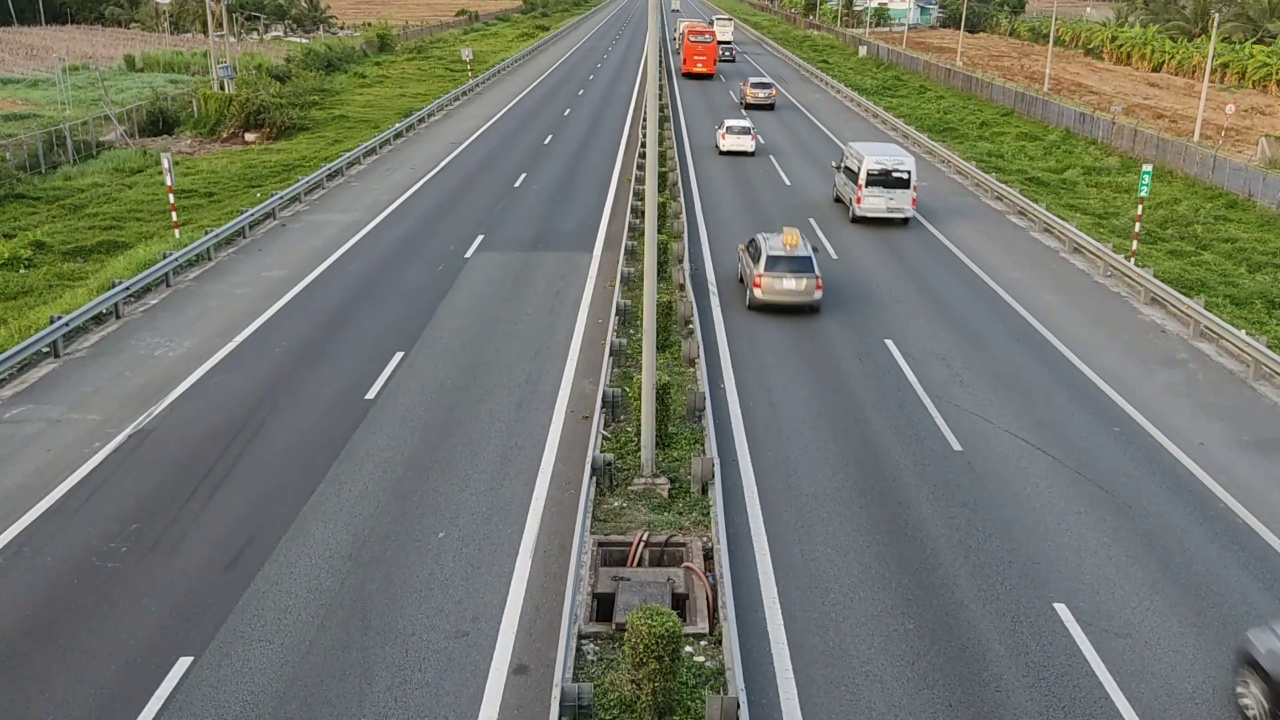car: (737, 227, 825, 313), (830, 140, 918, 223), (715, 117, 759, 155), (739, 77, 777, 109)
